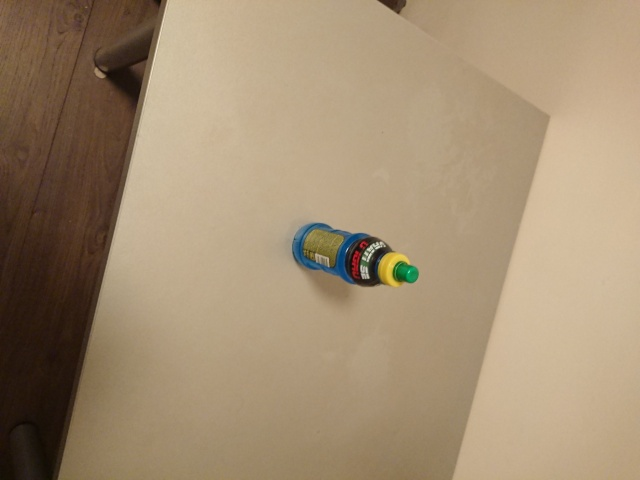Vindi Iso Sport Forest Strawberries 500mL: (290, 220, 419, 288)
